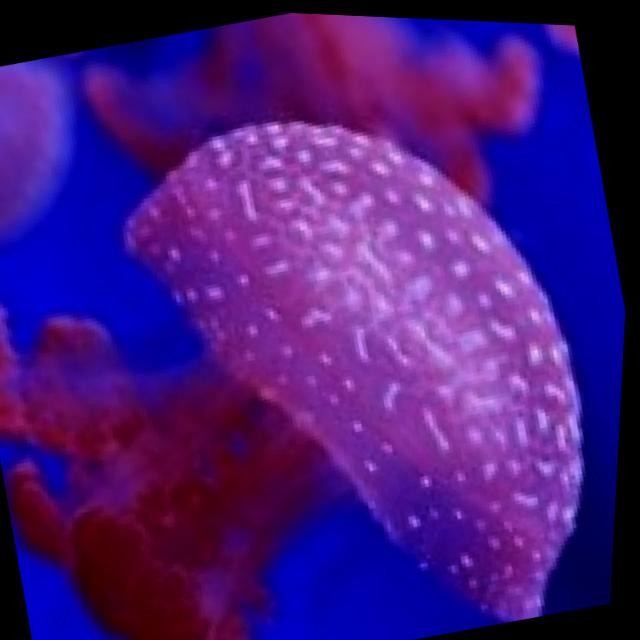Jellyfish: (0, 37, 638, 640)
